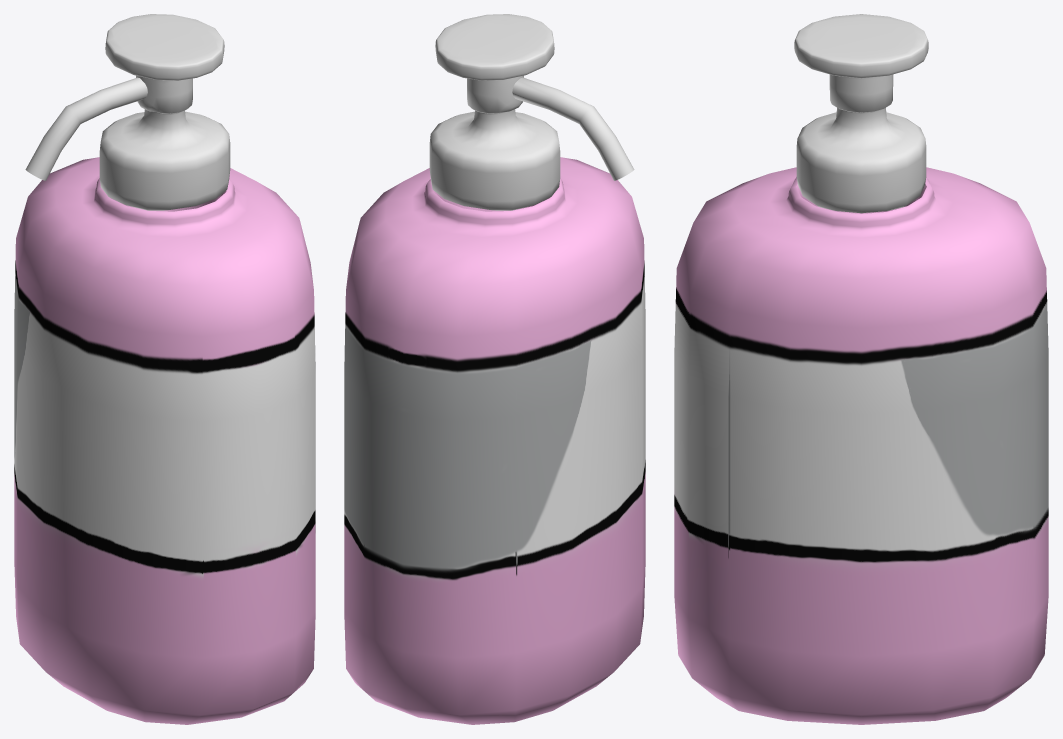
File: Lotion.fbx
3 renders of one model, left to right at view 1: azimuth 30°, elevation 25°; view 2: azimuth 150°, elevation 25°; view 3: azimuth 270°, elevation 25°, orthographic. The views are drawn at different scales.
Visible parts, largest first — view 1: Dispenser Bottle, Dispenser; view 2: Dispenser Bottle, Dispenser; view 3: Dispenser Bottle, Dispenser.
Boxes of the visible parts, x1,y1,x2,y2 form: Dispenser Bottle: [14, 157, 315, 724]; Dispenser: [25, 14, 230, 210]; Dispenser Bottle: [344, 157, 645, 724]; Dispenser: [429, 14, 634, 210]; Dispenser Bottle: [674, 167, 1048, 724]; Dispenser: [794, 14, 928, 213].
Bounding box in the file's own units: 0.0896 × 0.1096 × 0.2077.
1 material, 1 textured.
